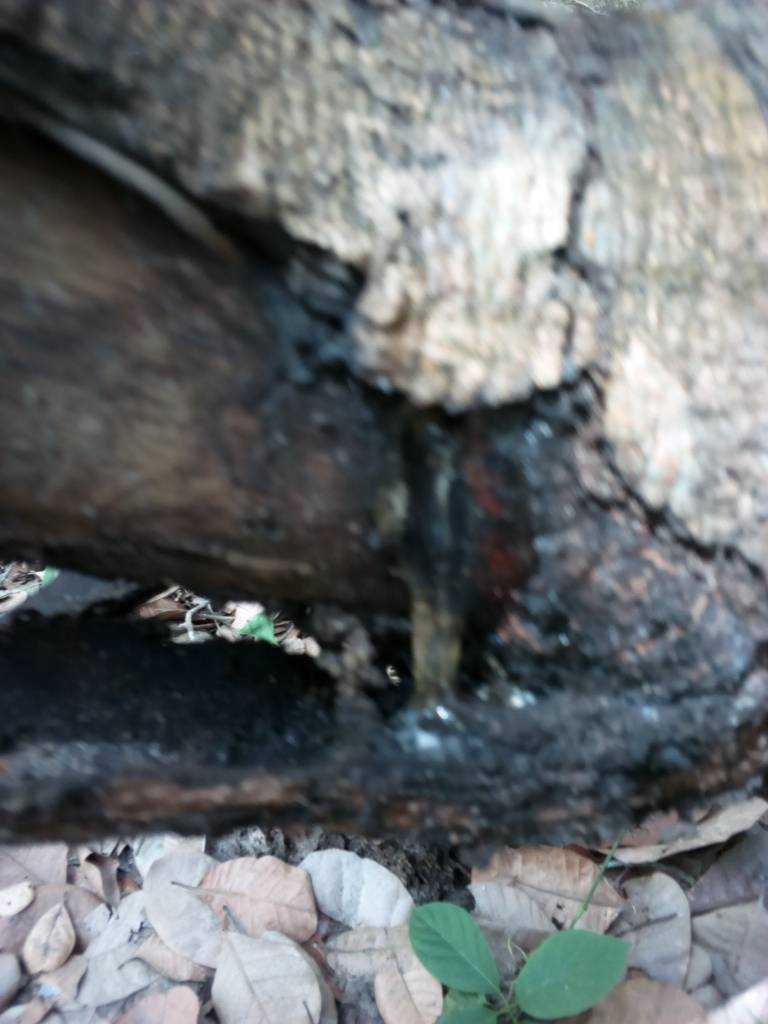Gommose: (258, 328, 741, 817)
